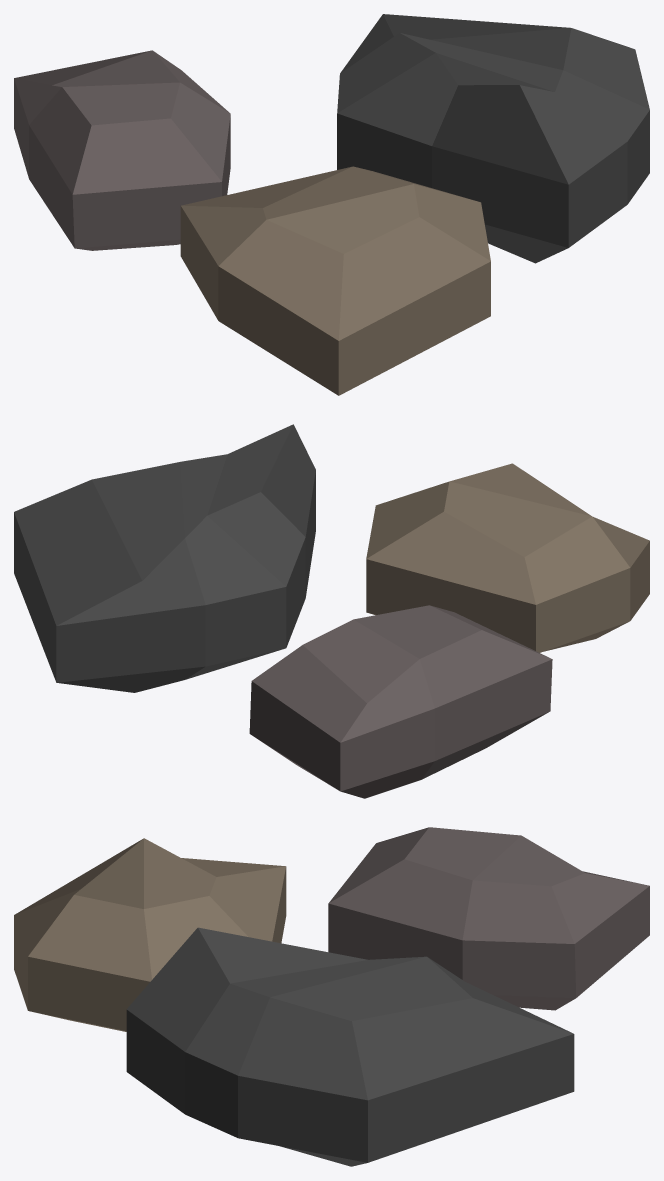
File: Mushroom_Stone_02.fbx
The picture shows the model from 3 angles, top to bottom: view 1: azimuth 30°, elevation 25°; view 2: azimuth 150°, elevation 25°; view 3: azimuth 270°, elevation 25°; orthographic projection. The views are drawn at different scales.
Visible parts, largest first — view 1: Vege_Stone_02; view 2: Vege_Stone_02; view 3: Vege_Stone_02.
Boxes of the visible parts, x1,y1,x2,y2 form: Vege_Stone_02: (14, 14, 649, 395); Vege_Stone_02: (14, 424, 649, 798); Vege_Stone_02: (14, 827, 649, 1166).
Bounding box in the file's own units: 67.33 × 22.61 × 67.18.
